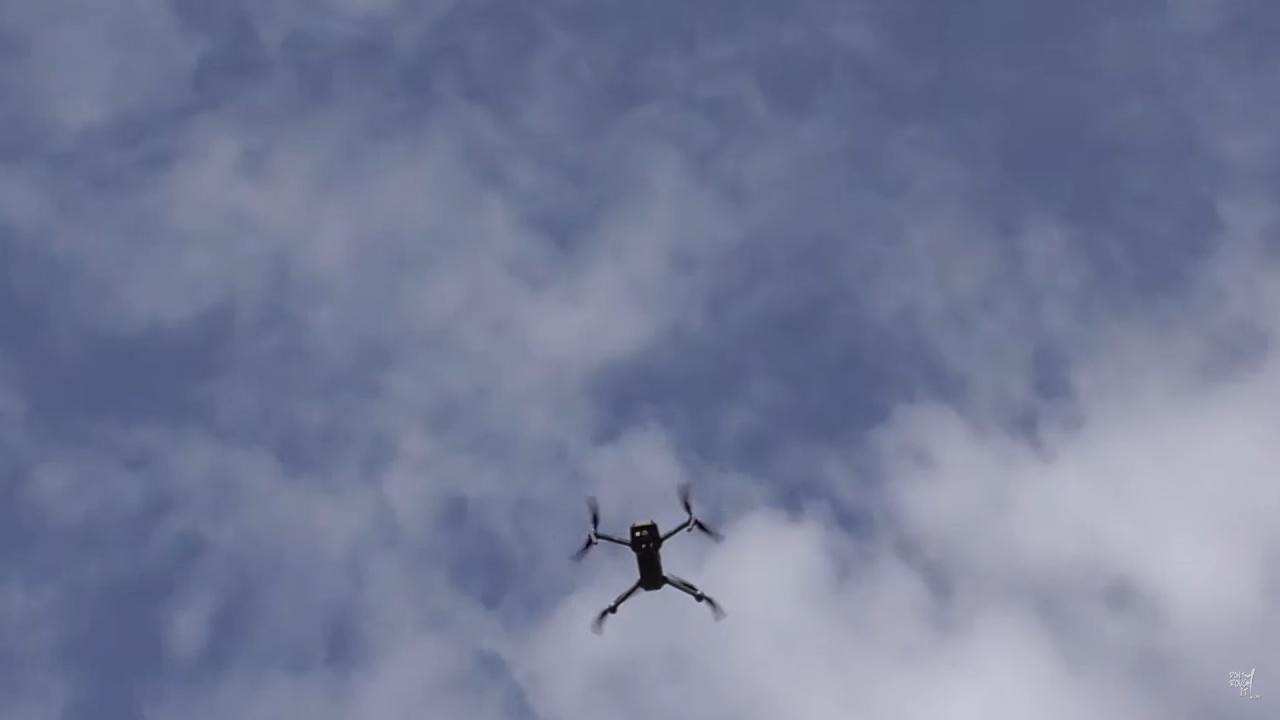Drone: (553, 464, 748, 656)
